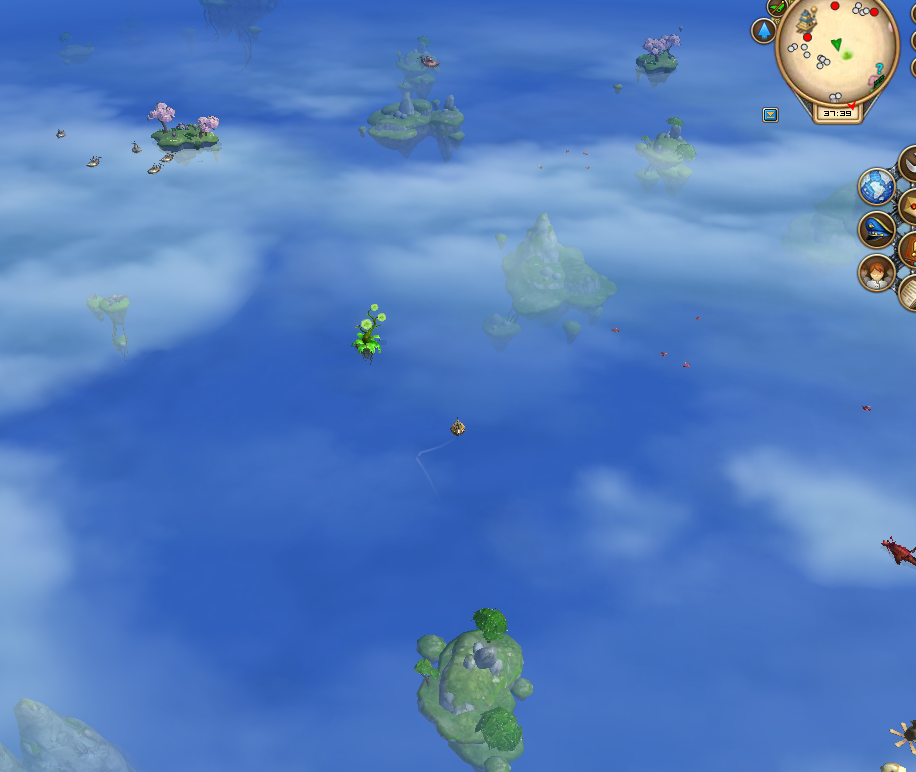dandelion-full: (352, 302, 387, 364)
